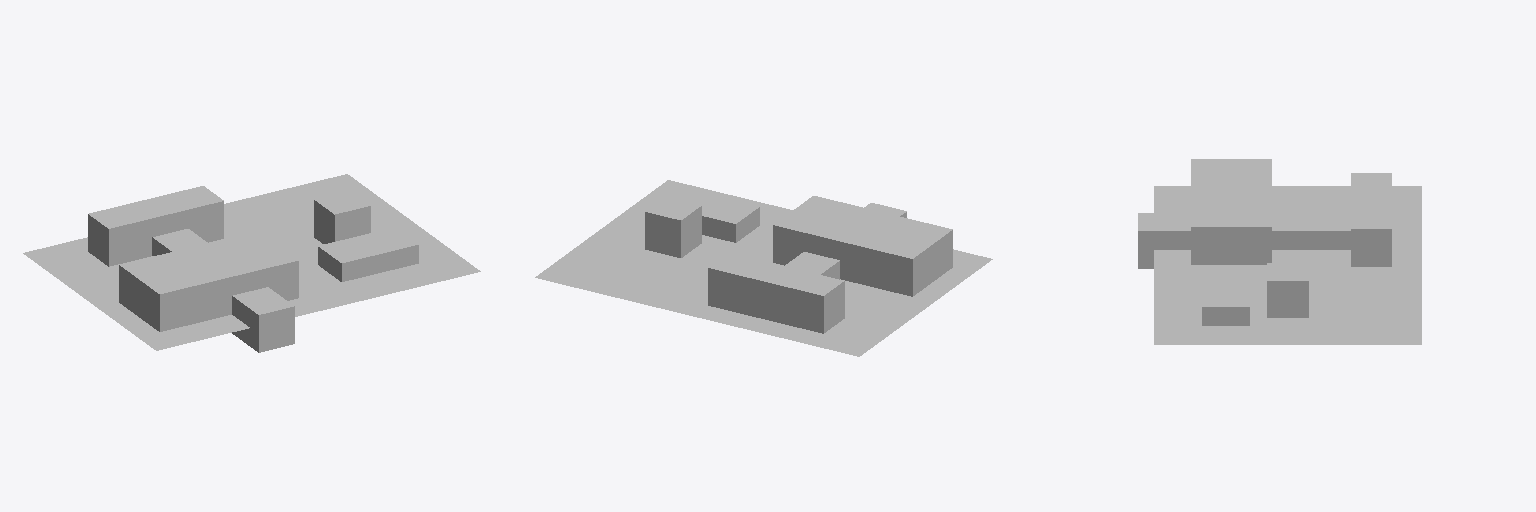
3 views of the same model, side by side, from view 1: azimuth 30°, elevation 25°; view 2: azimuth 150°, elevation 25°; view 3: azimuth 270°, elevation 25° (orthographic).
Visible parts, largest first — view 1: Plane_Sol, Cube.009_Cube4, Cube.002, Cube.005_Cube.003, Cube.010_Cube5, Cube_Cube.001; view 2: Plane_Sol, Cube.009_Cube4, Cube.002, Cube_Cube.001, Cube.010_Cube5, Cube.005_Cube.003; view 3: Plane_Sol, Cube.009_Cube4, Cube.005_Cube.003, Cube.002, Cube.010_Cube5, Cube_Cube.001.
Boxes of the visible parts, <box> form: Plane_Sol: <box>23,174,480,350</box>; Cube.009_Cube4: <box>119,231,298,331</box>; Cube.002: <box>88,186,223,266</box>; Cube.005_Cube.003: <box>152,229,294,352</box>; Cube.010_Cube5: <box>318,227,418,281</box>; Cube_Cube.001: <box>314,191,370,243</box>; Plane_Sol: <box>535,180,992,356</box>; Cube.009_Cube4: <box>773,196,952,296</box>; Cube.002: <box>708,253,844,333</box>; Cube_Cube.001: <box>645,197,701,257</box>; Cube.010_Cube5: <box>670,188,759,242</box>; Cube.005_Cube.003: <box>785,203,906,279</box>; Plane_Sol: <box>1154,186,1421,344</box>; Cube.009_Cube4: <box>1191,159,1271,264</box>; Cube.005_Cube.003: <box>1138,213,1350,268</box>; Cube.002: <box>1351,173,1391,266</box>; Cube.010_Cube5: <box>1202,269,1249,325</box>; Cube_Cube.001: <box>1267,263,1308,317</box>.
Size of the model in its own units: 18 by 3 by 13.62.